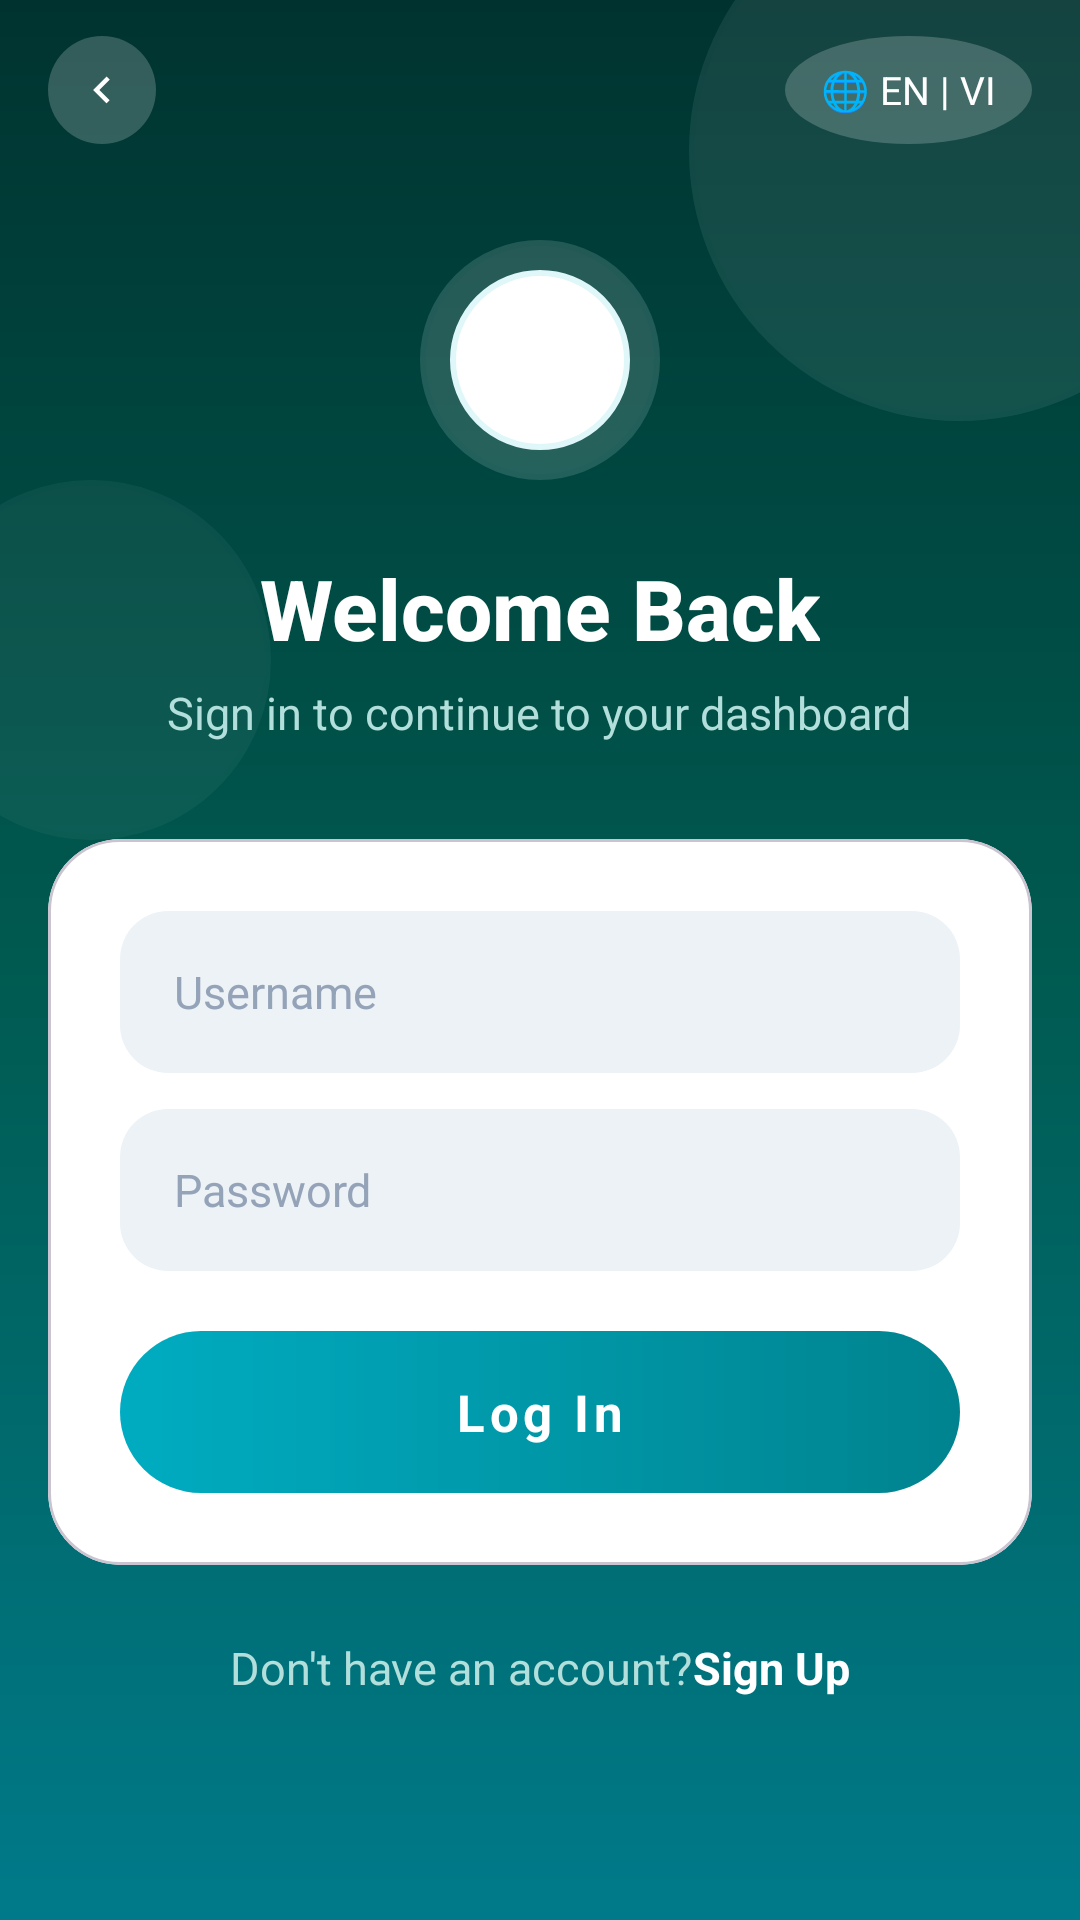

Where to tap for icons on this 1080px×1920px app screen, as (x=x, y=y):
Back: (x=102, y=90)
